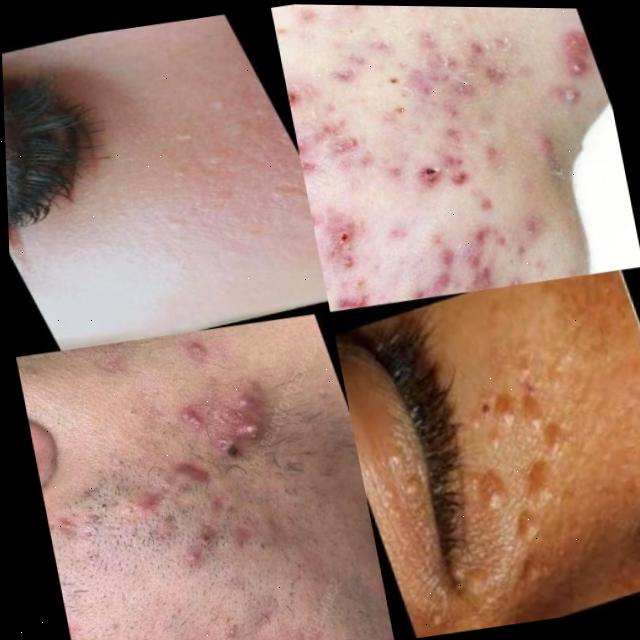Acne: (279, 4, 635, 310), (47, 318, 338, 640), (458, 324, 611, 597)
